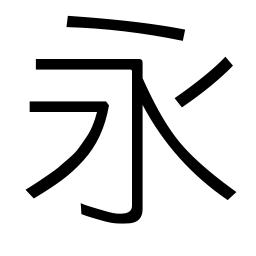D: (64, 13, 187, 42)
HSZ: (112, 51, 145, 94)
Hs: (33, 55, 93, 74)
Ne: (208, 177, 238, 203)
PNc: (150, 93, 193, 130)
PZe: (24, 176, 51, 203)
Ps: (212, 54, 234, 79)
SG: (78, 192, 145, 227)
Sm: (129, 134, 147, 165)
TPZ: (83, 97, 111, 142)
Ts: (27, 98, 51, 117)
